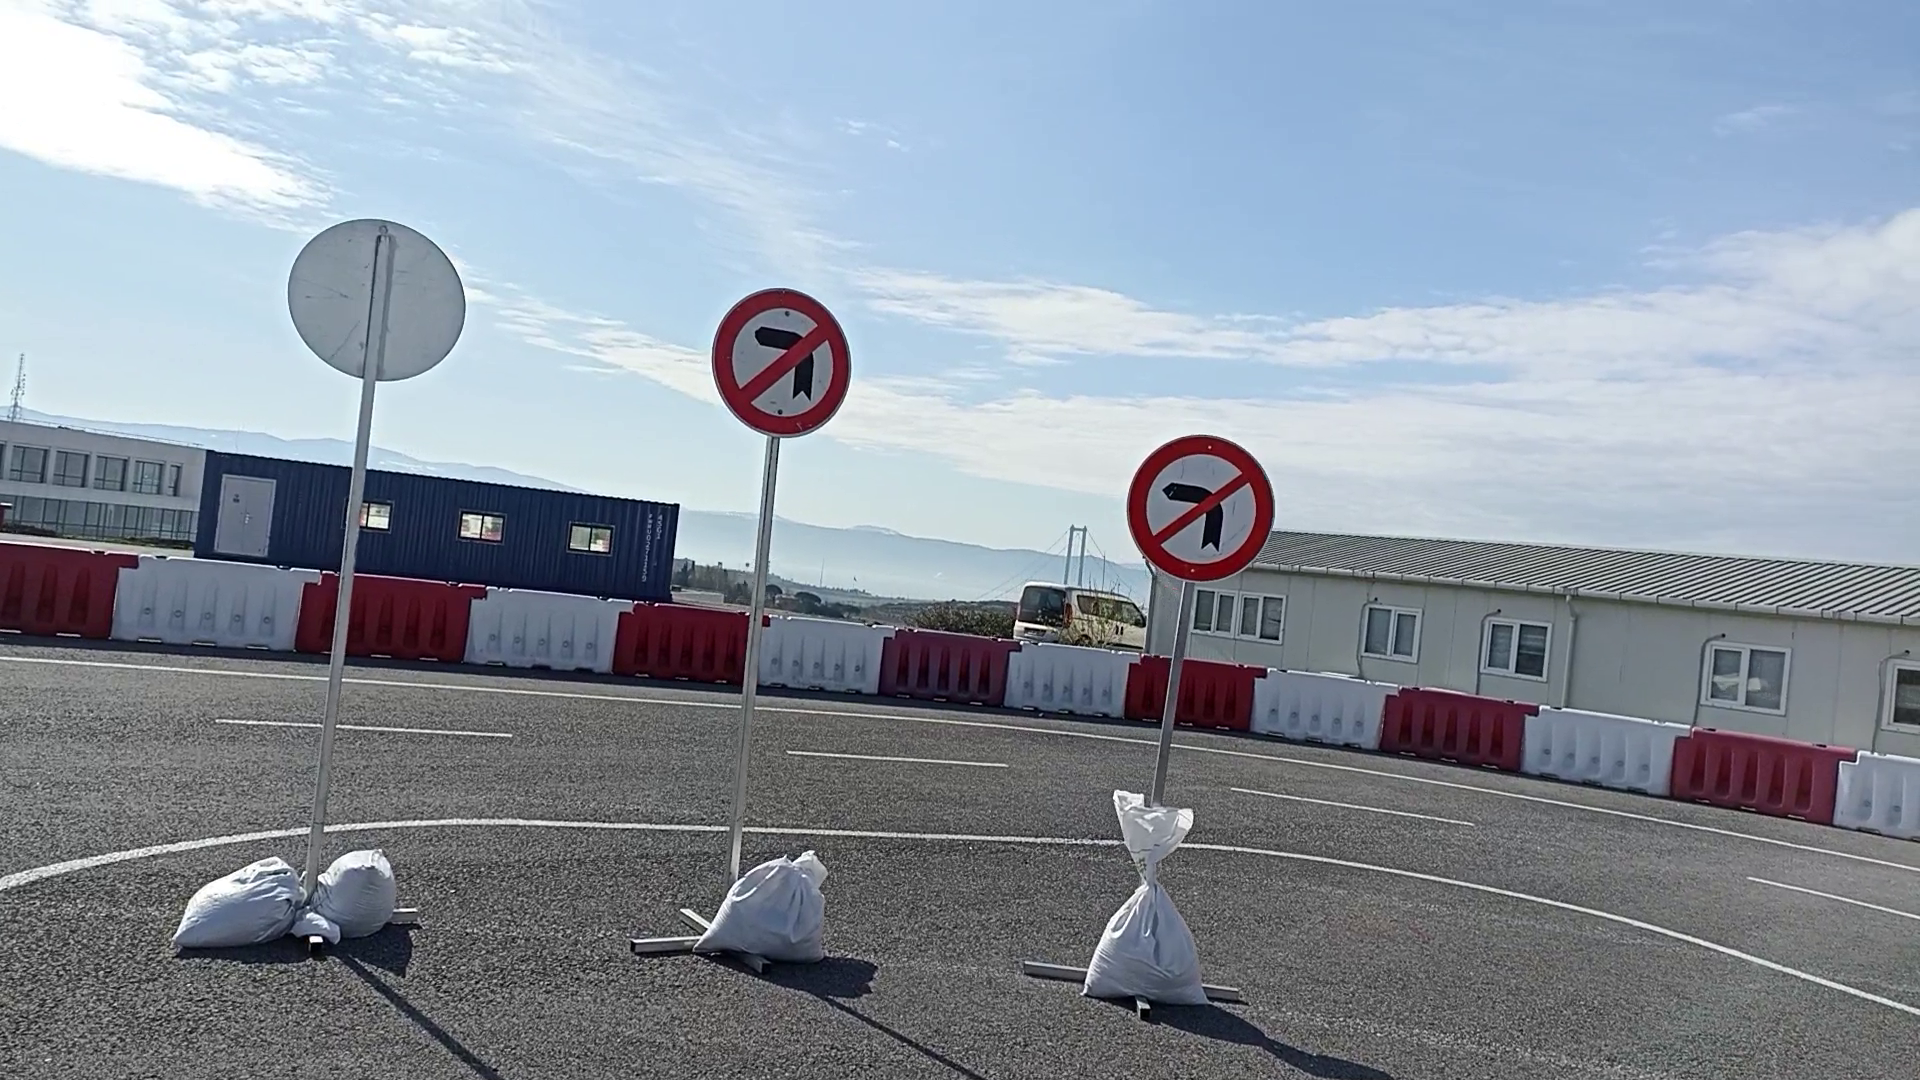noleft: (1126, 434, 1276, 584), (711, 287, 853, 440)
